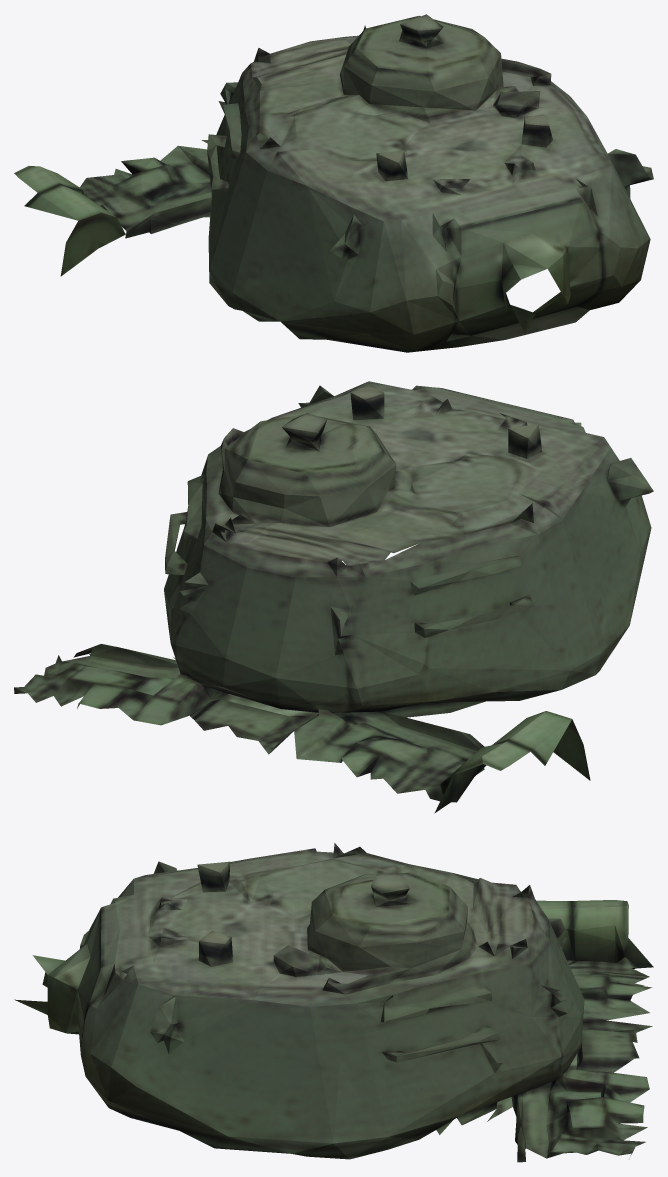
Rendered from is2_turret.glb.
3 renders of one model, top to bottom at view 1: azimuth 30°, elevation 25°; view 2: azimuth 150°, elevation 25°; view 3: azimuth 270°, elevation 25°, orthographic. The views are drawn at different scales.
Visible parts, largest first — view 1: is2_00001_.glb; view 2: is2_00001_.glb; view 3: is2_00001_.glb.
Part boxes in pixels (bbox=[...]): is2_00001_.glb: bbox=[14, 14, 653, 352]; is2_00001_.glb: bbox=[14, 381, 653, 813]; is2_00001_.glb: bbox=[14, 843, 653, 1162].
Bounding box in the file's own units: 3.38 × 1.51 × 3.96.
1 material, 1 textured.
